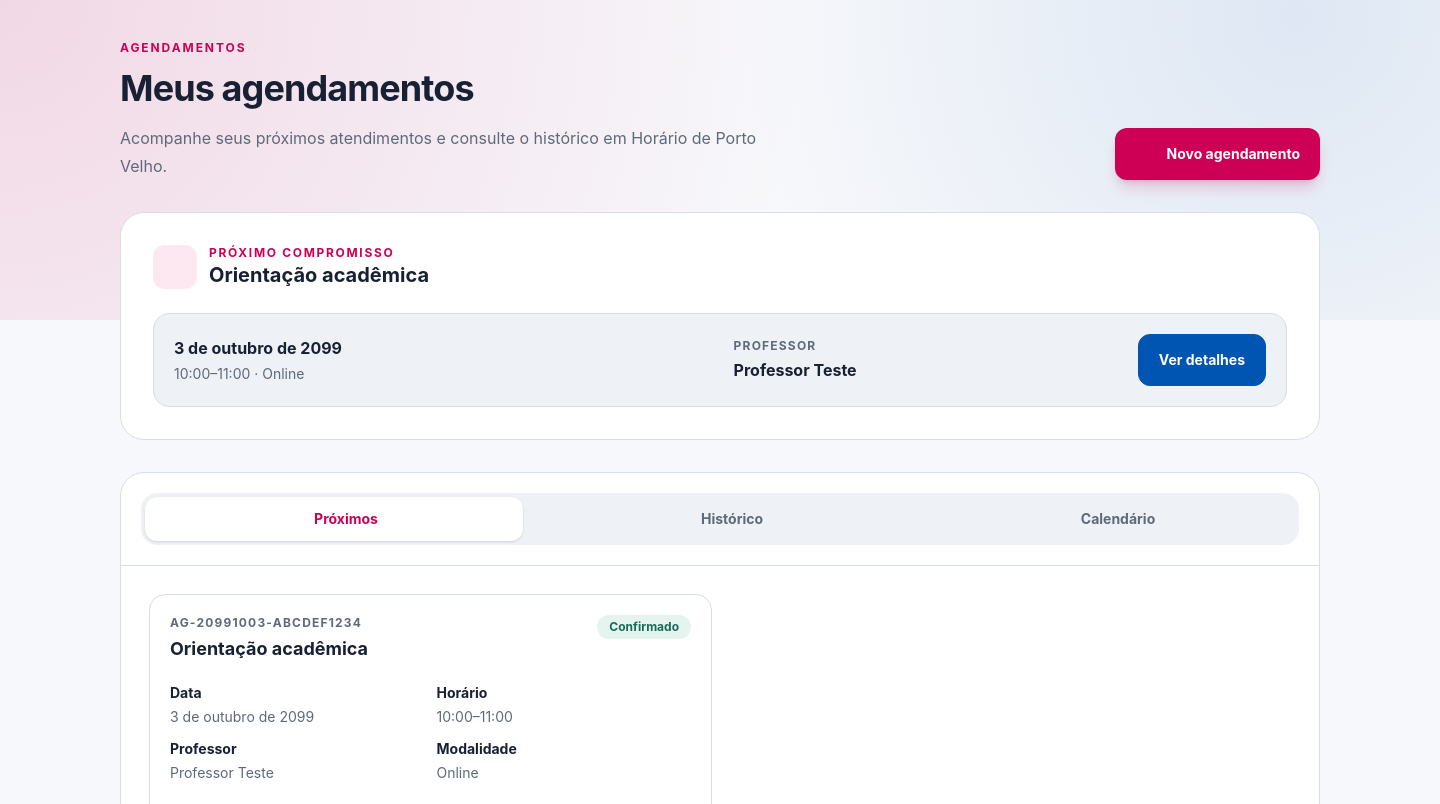
Scenario: MyAppointmentsView › destaca o próximo compromisso e abre os detalhes sem expor outro aluno
Expected: the element with test id "next-appointment" shows "Professor Teste", [734,360,857,380]
Click the button "Ver detalhes" in the row of "10:00–11:00 · Online" at (1202, 360), box [1138,334,1266,386]
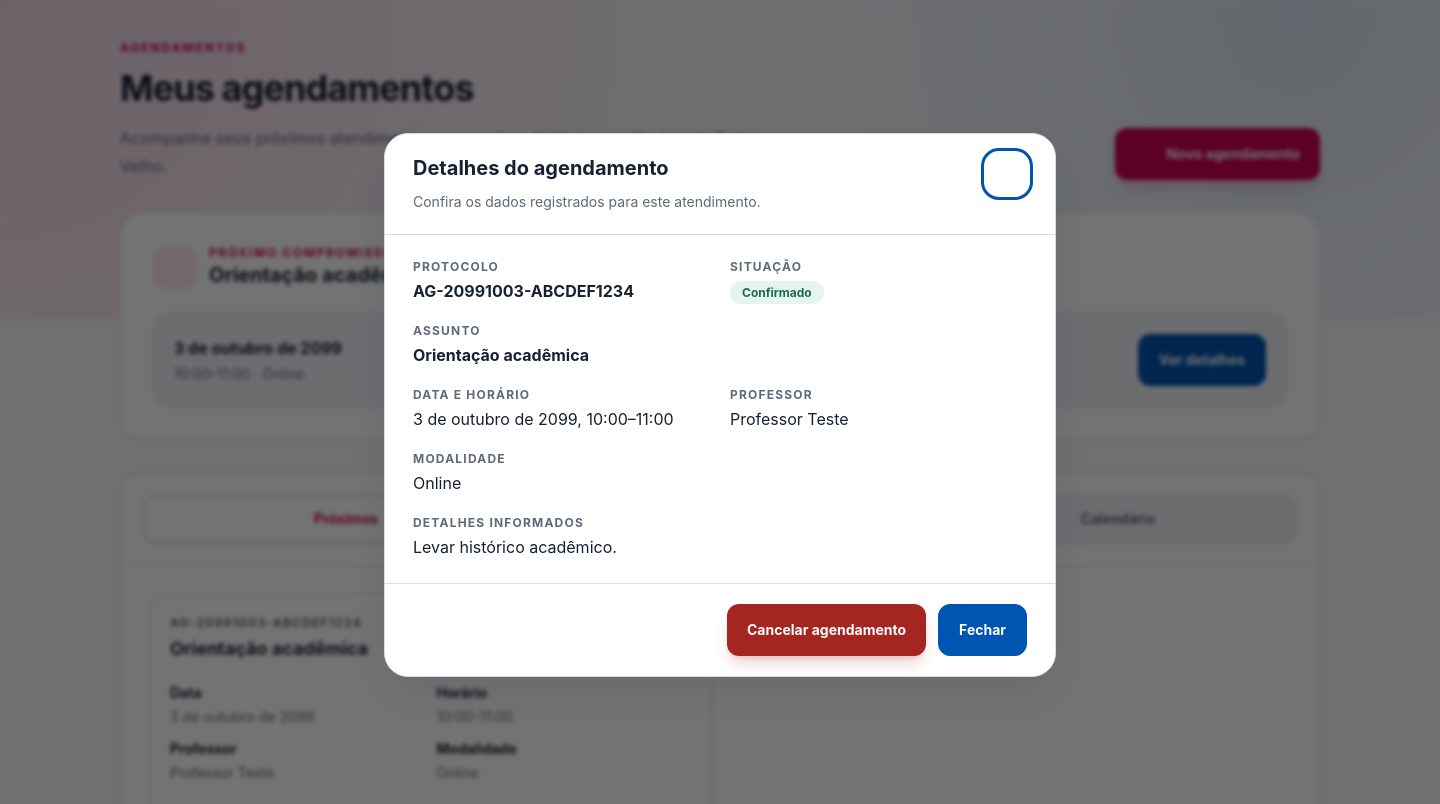
Expected: the text "AG-20991003-ABCDEF1234" is shown, [170,615,368,631]
Now the text "Levar histórico acadêmico." is shown, box [413,537,617,557]
